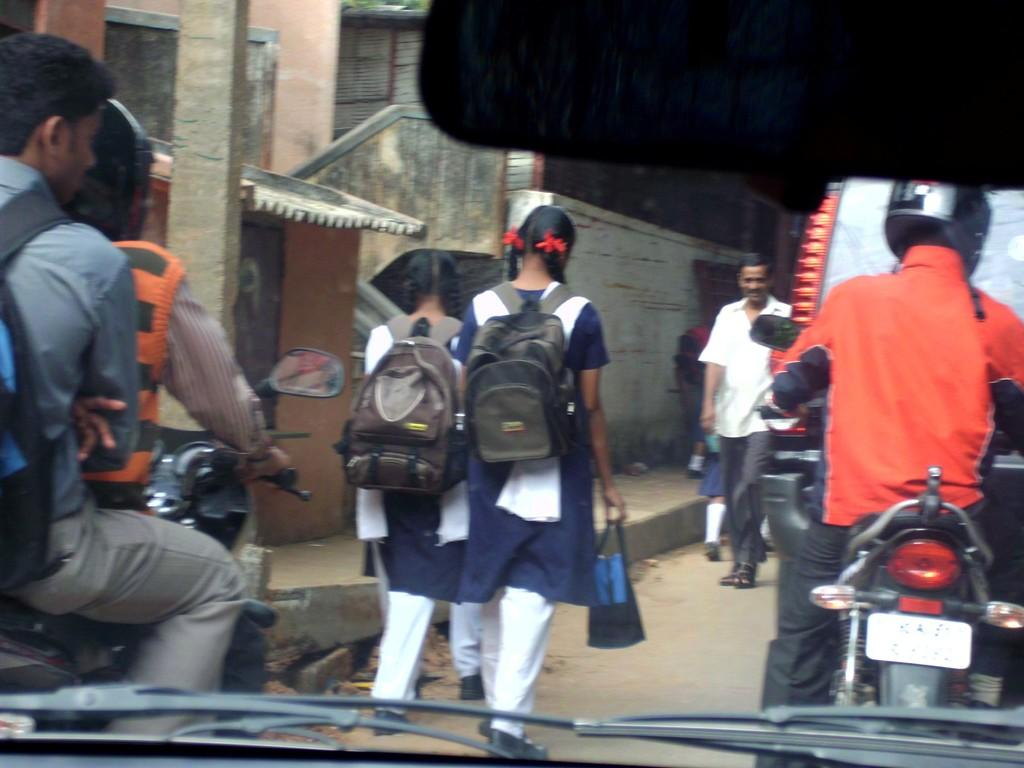helmet: (884, 160, 992, 284)
nohelmet: (0, 28, 121, 215), (510, 203, 579, 286), (399, 247, 463, 323), (735, 251, 777, 306)
